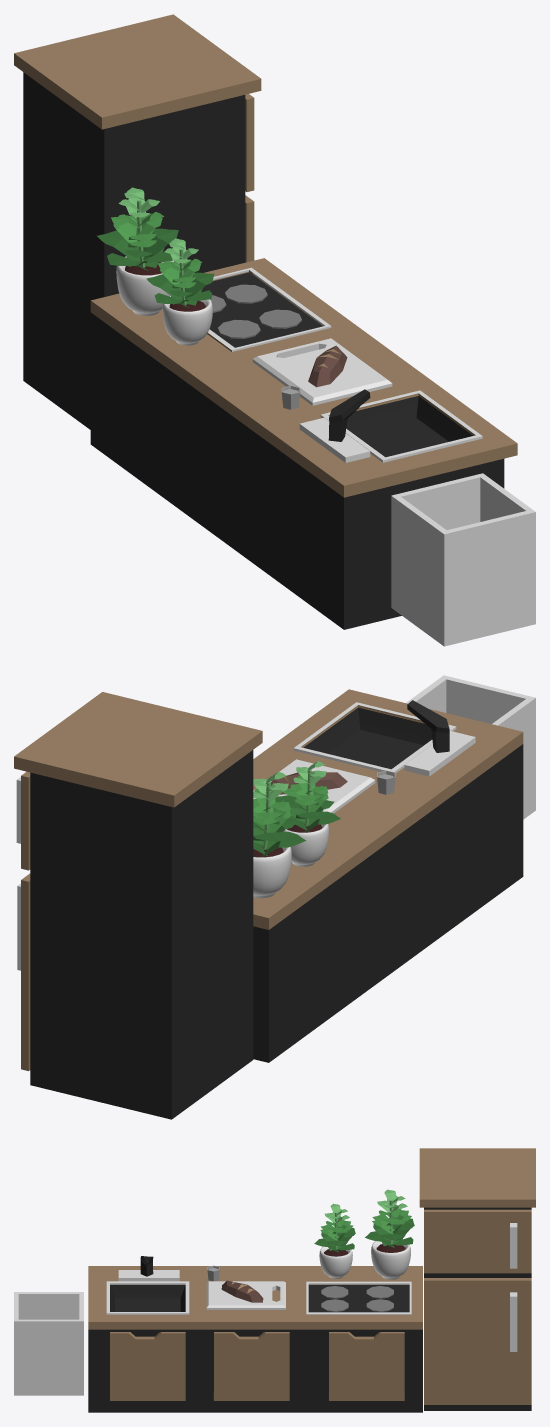
File: Kitchen_setup.fbx
3 views of the same model, one above another, from view 1: azimuth 30°, elevation 25°; view 2: azimuth 150°, elevation 25°; view 3: azimuth 270°, elevation 25° (orthographic). The views are drawn at different scales.
Visible parts, largest first — view 1: polySurface1880, polySurface1611, polySurface1586, polySurface2333, polySurface2334, polySurface1886, polySurface1613, polySurface1614, polySurface1878, polySurface1887, polySurface1612; view 2: polySurface1611, polySurface1880, polySurface1586, polySurface2333, polySurface2334, polySurface1615, polySurface1886, polySurface1614, polySurface1887, polySurface1612, polySurface1878; view 3: polySurface1880, polySurface1615, polySurface1611, polySurface1586, polySurface1612, polySurface1617, polySurface1881, polySurface1882, polySurface2333, polySurface2334, polySurface1613, polySurface1886 (+4 smaller).
Part boxes in pixels (box(x1,y1,x2,y2)): polySurface1880: box(90, 258, 517, 629); polySurface1611: box(14, 14, 261, 429); polySurface1586: box(391, 473, 535, 646); polySurface2333: box(97, 187, 178, 315); polySurface2334: box(146, 238, 214, 345); polySurface1886: box(252, 338, 392, 405); polySurface1613: box(201, 272, 322, 347); polySurface1614: box(299, 417, 370, 462); polySurface1878: box(308, 345, 347, 387); polySurface1887: box(328, 389, 370, 441); polySurface1612: box(245, 94, 254, 191); polySurface1611: box(14, 692, 262, 1119); polySurface1880: box(253, 689, 523, 1062); polySurface1586: box(406, 675, 535, 819); polySurface2333: box(253, 772, 305, 898); polySurface2334: box(275, 761, 340, 866); polySurface1615: box(21, 873, 30, 1071); polySurface1886: box(253, 759, 375, 813); polySurface1614: box(404, 731, 475, 776); polySurface1887: box(407, 700, 449, 752); polySurface1612: box(21, 771, 30, 870); polySurface1878: box(271, 771, 347, 794); polySurface1880: box(88, 1266, 422, 1412); polySurface1615: box(424, 1278, 531, 1404); polySurface1611: box(419, 1148, 535, 1410); polySurface1586: box(14, 1292, 83, 1395); polySurface1612: box(424, 1209, 531, 1273); polySurface1617: box(329, 1332, 404, 1400); polySurface1881: box(110, 1332, 185, 1400); polySurface1882: box(214, 1332, 289, 1400); polySurface2333: box(365, 1189, 414, 1279); polySurface2334: box(314, 1203, 355, 1278); polySurface1613: box(308, 1285, 409, 1312); polySurface1886: box(206, 1281, 285, 1309).
Size of the model in its own units: 1.23 by 2.03 by 4.46.
